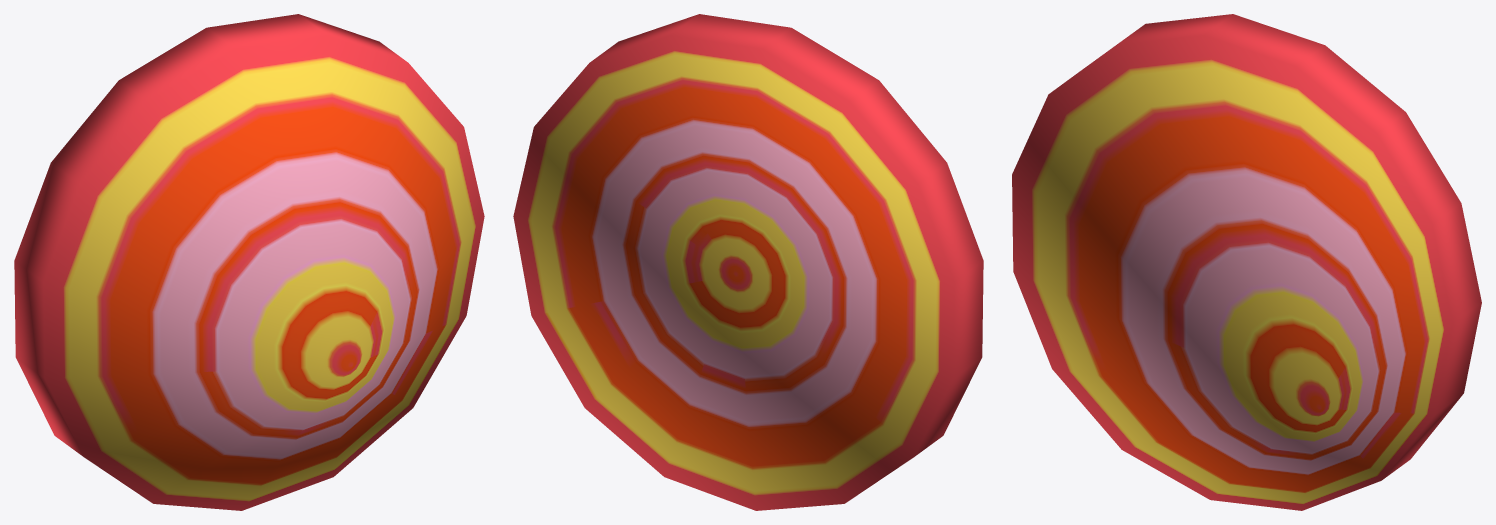
File: M_eyes_03.fbx
The picture shows the model from 3 angles, left to right: view 1: azimuth 30°, elevation 25°; view 2: azimuth 150°, elevation 25°; view 3: azimuth 330°, elevation 25°; orthographic projection.
Parts seen in each view (by area): view 1: Cube.014; view 2: Cube.014; view 3: Cube.014.
Part boxes in pixels (bbox=[...]): Cube.014: bbox=[14, 14, 484, 510]; Cube.014: bbox=[513, 14, 983, 510]; Cube.014: bbox=[1012, 14, 1481, 510].
Size of the model in its own units: 284 by 285 by 32.53.
